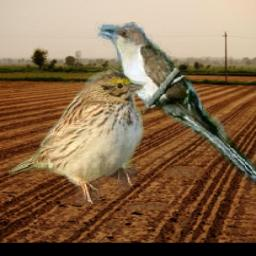Cuckoo: (95, 22, 256, 194)
Sparrow: (9, 67, 149, 205)
